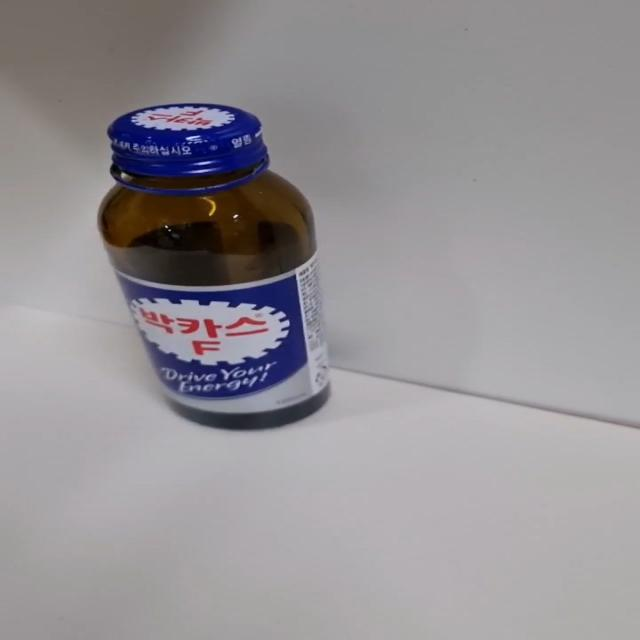Glass: (96, 102, 332, 432)
